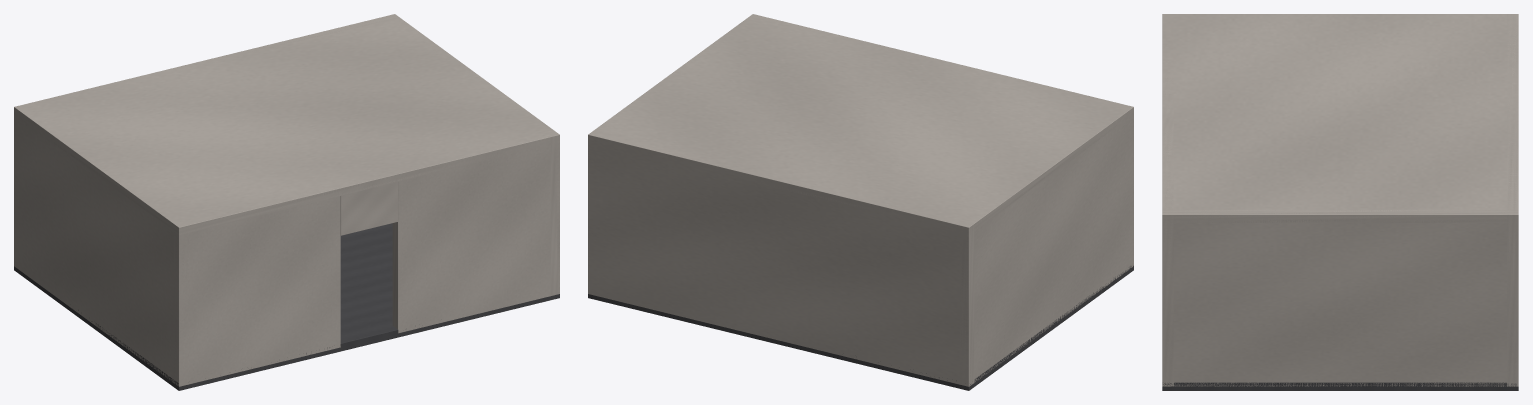
Rendered from planning_room_shell.glb.
3 renders of one model, left to right at view 1: azimuth 30°, elevation 25°; view 2: azimuth 150°, elevation 25°; view 3: azimuth 270°, elevation 25°, orthographic. The views are drawn at different scales.
Visible parts, largest first — view 1: ceiling.004, side_wall.008, entrance_wall, entrance_wall.001, floor.008, door_header.002, side_wall.009, back_wall.001; view 2: ceiling.004, back_wall.001, side_wall.008, floor.008; view 3: ceiling.004, side_wall.009, back_wall.001, floor.008, entrance_wall.001, door_header.002.
Part boxes in pixels (x1,y1,x2,y2): ceiling.004: (14, 14, 559, 235); side_wall.008: (14, 107, 187, 386); entrance_wall: (173, 186, 340, 386); entrance_wall.001: (392, 134, 559, 333); floor.008: (14, 223, 559, 390); door_header.002: (340, 174, 397, 235); side_wall.009: (401, 22, 557, 295); back_wall.001: (14, 14, 399, 266); ceiling.004: (588, 14, 1133, 234); back_wall.001: (588, 134, 974, 386); side_wall.008: (959, 107, 1133, 385); floor.008: (588, 265, 1133, 390); ceiling.004: (1162, 14, 1518, 222); side_wall.009: (1162, 209, 1518, 386); back_wall.001: (1507, 14, 1518, 386); floor.008: (1162, 382, 1518, 390); entrance_wall.001: (1162, 129, 1173, 386); door_header.002: (1162, 99, 1173, 129).
Bounding box in the file's own units: 8 × 3.28 × 6.
Materials: 4 (3 with a texture image).
